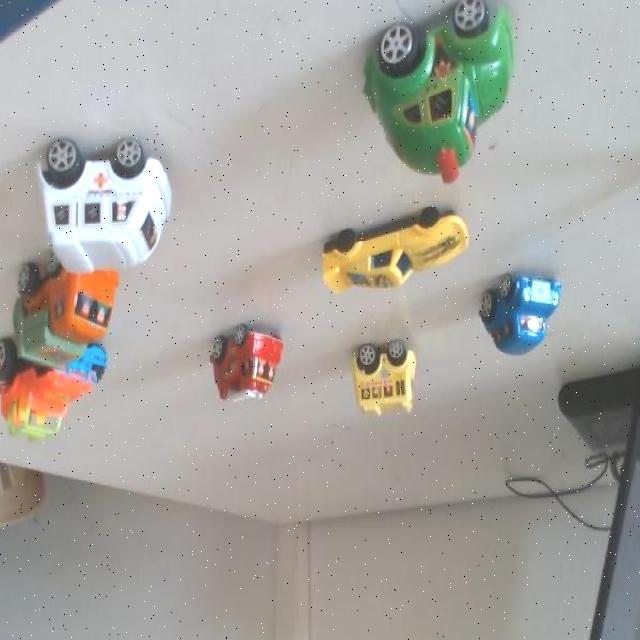car: (50, 113, 200, 297), (391, 10, 525, 170), (336, 190, 464, 308), (27, 333, 116, 448), (208, 304, 286, 418), (43, 252, 114, 376), (345, 321, 432, 422), (492, 262, 565, 360)
